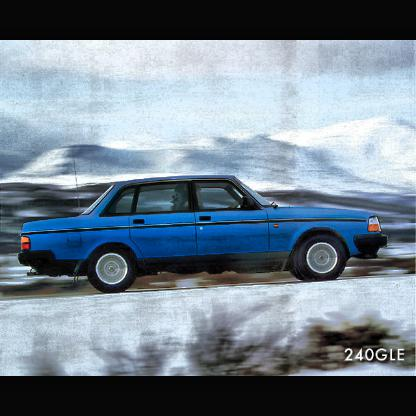Volvo 240 Sedan 1993: (18, 174, 388, 294)
